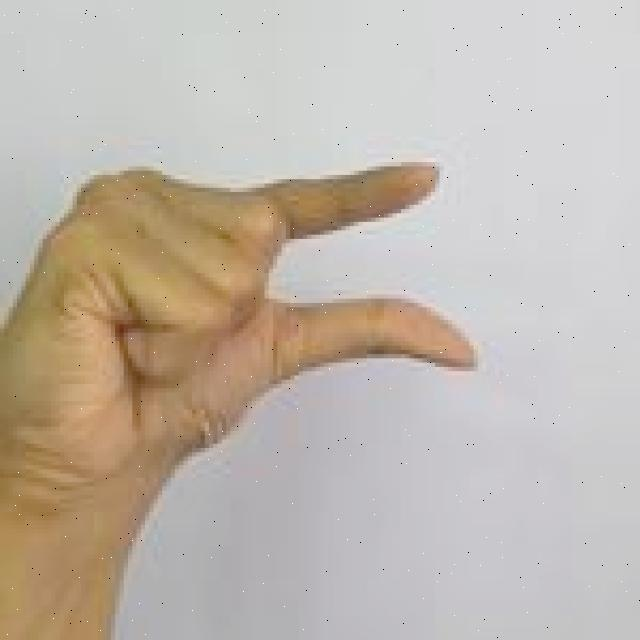G: (0, 161, 475, 639)
